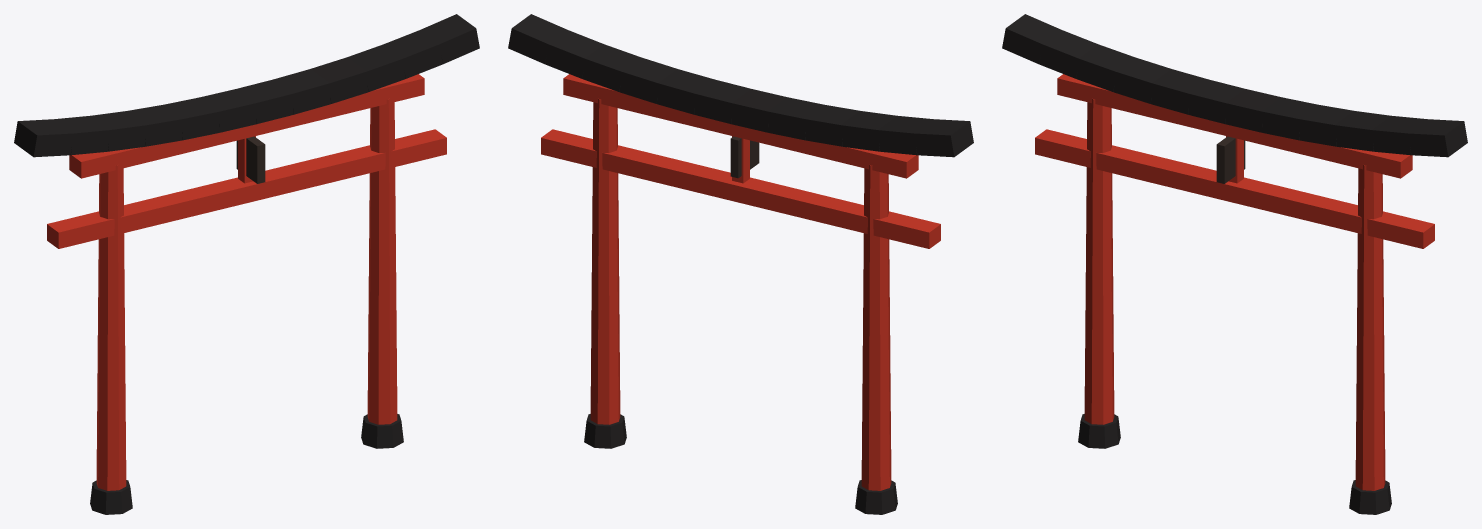
Rendered from torii.fbx.
3 views of the same model, side by side, from view 1: azimuth 30°, elevation 25°; view 2: azimuth 150°, elevation 25°; view 3: azimuth 330°, elevation 25° (orthographic).
Visible parts, largest first — view 1: Torii_Red, Torii_Black, Torii_Plaque; view 2: Torii_Red, Torii_Black, Torii_Plaque; view 3: Torii_Red, Torii_Black, Torii_Plaque.
Part boxes in pixels (x1,y1,x2,y2): Torii_Red: (47, 74, 446, 490); Torii_Black: (14, 14, 479, 514); Torii_Plaque: (236, 136, 265, 183); Torii_Red: (541, 74, 940, 490); Torii_Black: (508, 14, 973, 514); Torii_Plaque: (730, 136, 759, 178); Torii_Red: (1035, 74, 1434, 490); Torii_Black: (1002, 14, 1467, 514); Torii_Plaque: (1216, 136, 1245, 183).
Size of the model in its own units: 19.76 by 16.84 by 1.95.
